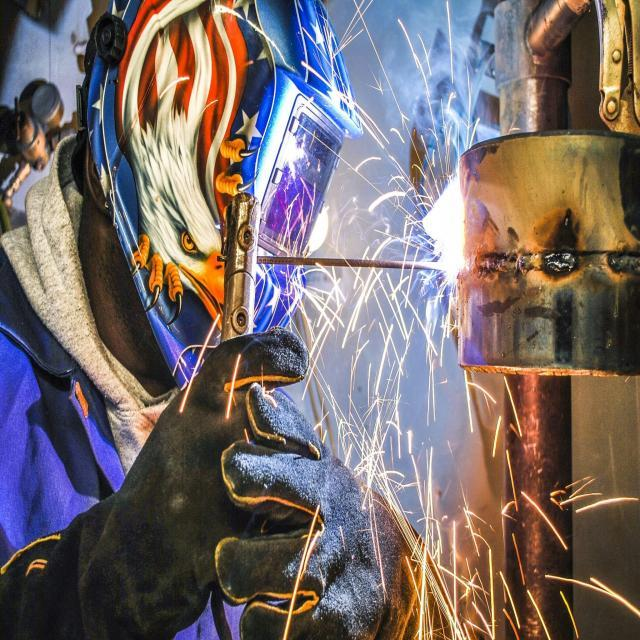with_helmet: (69, 0, 397, 372)
